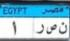1: (12, 20, 18, 35)
noon: (59, 21, 67, 35)
raa: (36, 22, 45, 35)
saad: (45, 22, 57, 35)
